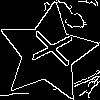X: (22, 28, 73, 68)
